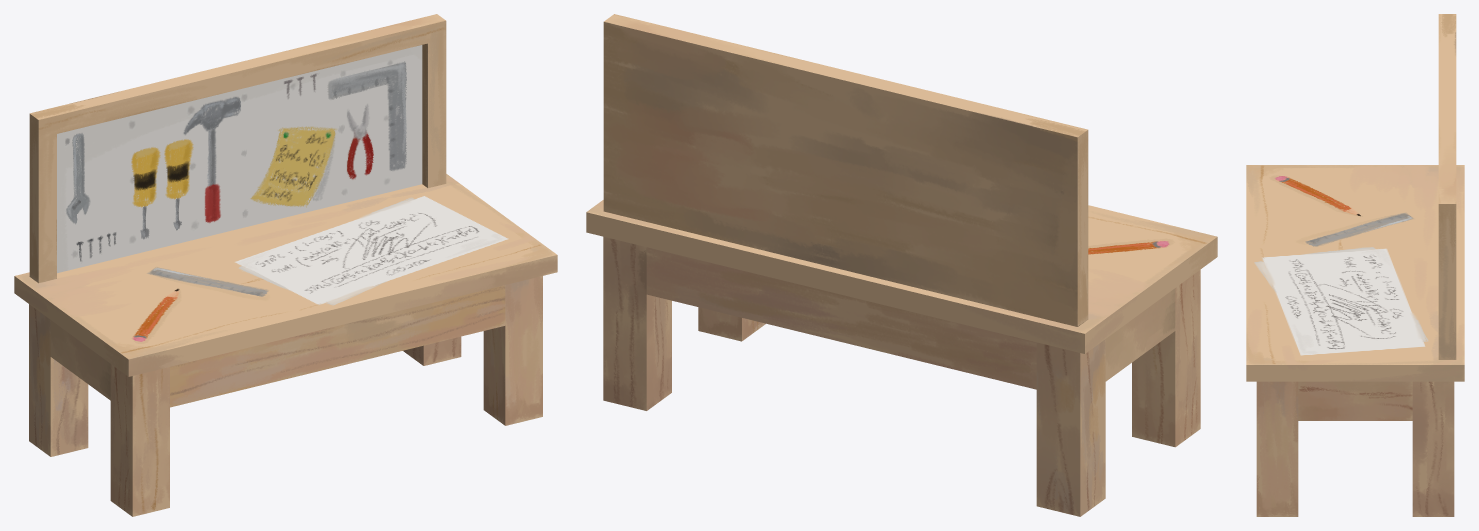
Rendered from Desk.FBX.
3 renders of one model, left to right at view 1: azimuth 30°, elevation 25°; view 2: azimuth 150°, elevation 25°; view 3: azimuth 270°, elevation 25°, orthographic. The views are drawn at different scales.
Parts seen in each view (by area): view 1: Desk; view 2: Desk; view 3: Desk.
Boxes of the visible parts, bbox=[...] form: Desk: bbox=[14, 14, 557, 516]; Desk: bbox=[586, 14, 1217, 516]; Desk: bbox=[1246, 14, 1464, 516].
Bounding box in the file's own units: 189 × 137 × 86.97.
